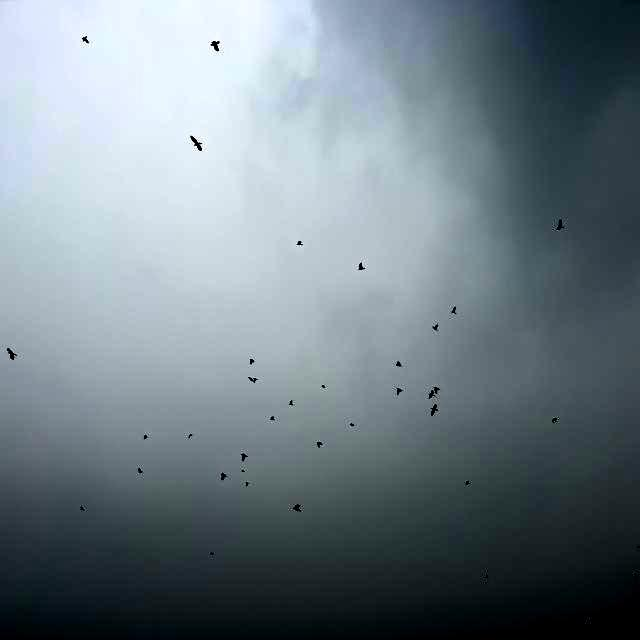bird: (546, 210, 568, 242), (1, 344, 22, 370), (188, 128, 206, 157), (207, 34, 225, 63), (352, 250, 368, 278), (289, 498, 306, 516), (80, 33, 96, 51), (236, 448, 252, 464), (447, 300, 462, 316), (430, 322, 442, 340), (550, 412, 563, 428), (430, 404, 439, 424), (432, 384, 442, 396), (426, 391, 434, 398)
